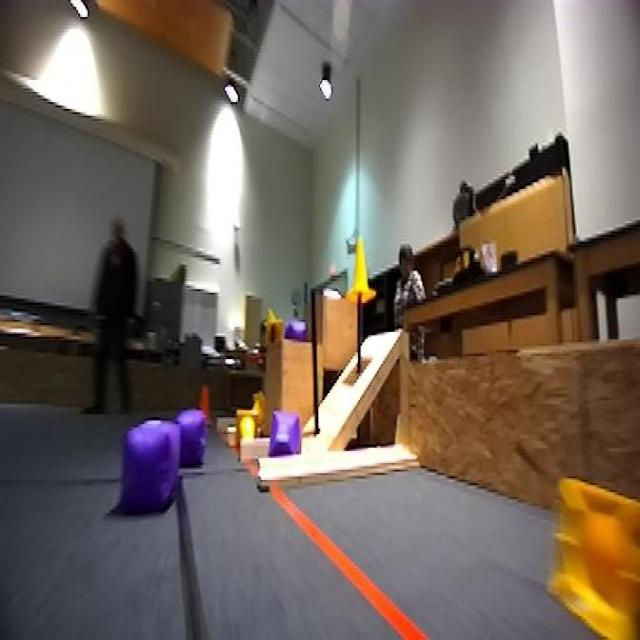frc_cone: (550, 470, 640, 640), (346, 235, 371, 298), (234, 412, 259, 442)
frc_cube: (120, 420, 187, 516), (177, 408, 210, 466), (266, 404, 298, 456), (290, 315, 310, 344)
